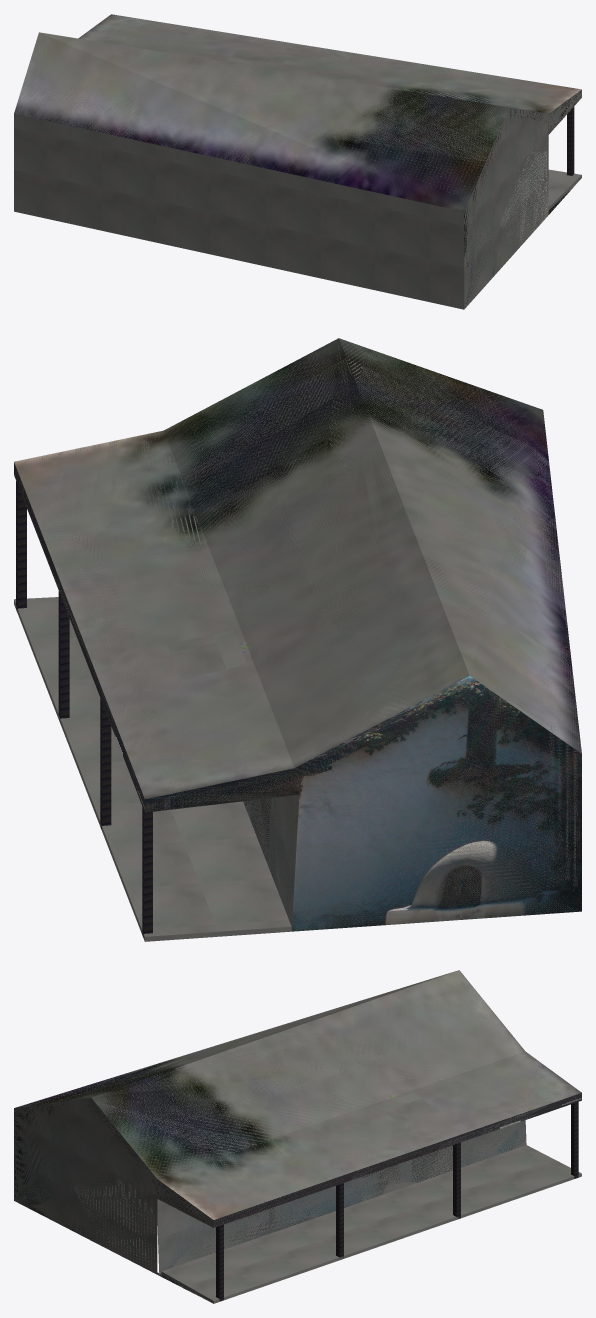
Rendered from San-Jose-Adobe.dae.
3 renders of one model, top to bottom at view 1: azimuth 30°, elevation 25°; view 2: azimuth 150°, elevation 25°; view 3: azimuth 270°, elevation 25°, orthographic. The views are drawn at different scales.
Parts seen in each view (by area): view 1: group_5 (×5), group_2; view 2: group_5 (×6), group_3, group_1, group_4, group_2; view 3: group_5 (×6), group_2, group_4, group_1, group_3.
Boxes of the visible parts, bbox=[...] form: group_5 (×5): bbox=[14, 14, 581, 309]; group_2: bbox=[567, 106, 574, 175]; group_5 (×6): bbox=[14, 338, 581, 941]; group_3: bbox=[58, 591, 69, 719]; group_1: bbox=[100, 698, 111, 830]; group_4: bbox=[142, 807, 152, 937]; group_2: bbox=[16, 481, 26, 612]; group_5 (×6): bbox=[14, 970, 581, 1303]; group_2: bbox=[216, 1224, 223, 1301]; group_4: bbox=[571, 1102, 578, 1178]; group_1: bbox=[453, 1142, 460, 1219]; group_3: bbox=[336, 1183, 343, 1259].
Size of the model in its own units: 573 by 647 by 180.
Materials: 11 (11 with a texture image).
